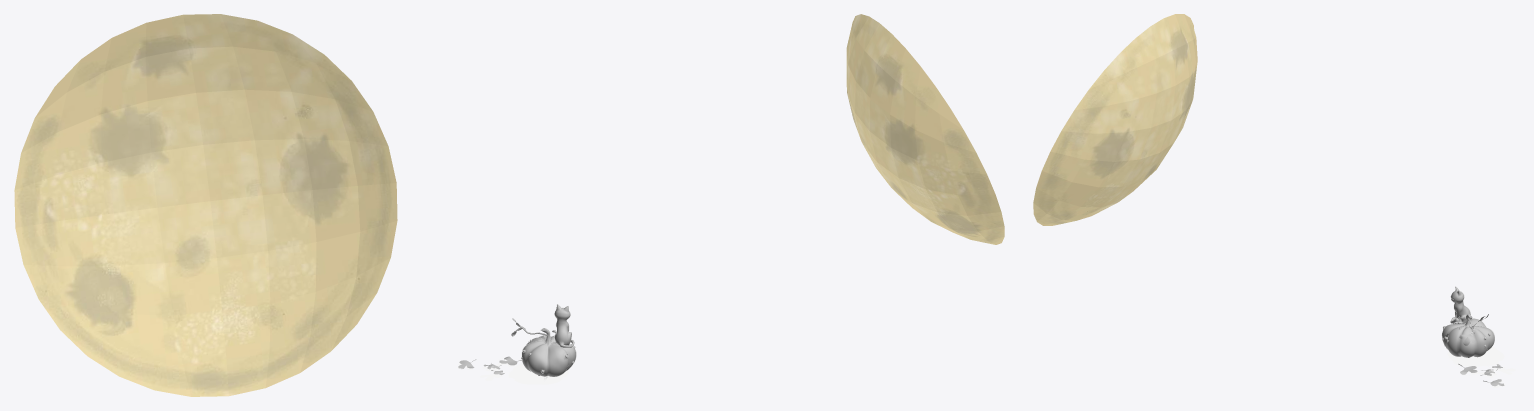
3 renders of one model, left to right at view 1: azimuth 30°, elevation 25°; view 2: azimuth 150°, elevation 25°; view 3: azimuth 270°, elevation 25°, orthographic. The views are drawn at different scales.
Parts seen in each view (by area): view 1: moon; view 2: moon, cat, ground; view 3: moon, cat, ground.
Boxes of the visible parts, x1=… form: moon: x1=14, y1=14, x2=397, y2=396; moon: x1=846, y1=14, x2=1004, y2=244; cat: x1=458, y1=304, x2=575, y2=376; ground: x1=457, y1=357, x2=568, y2=384; moon: x1=1033, y1=14, x2=1197, y2=225; cat: x1=1442, y1=286, x2=1504, y2=386; ground: x1=1447, y1=346, x2=1515, y2=387.
Size of what is drawn, in the model's own units: 17.07 by 11.16 by 19.54.
